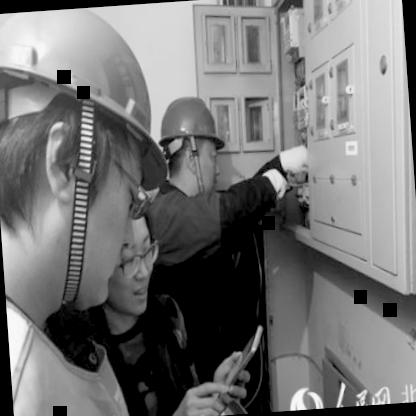helmet: (0, 3, 176, 301), (156, 87, 226, 202)
